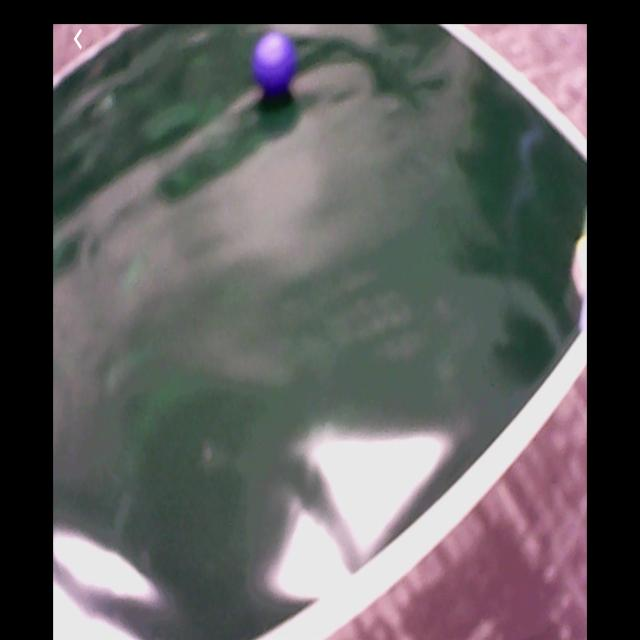ball: (255, 35, 298, 100)
